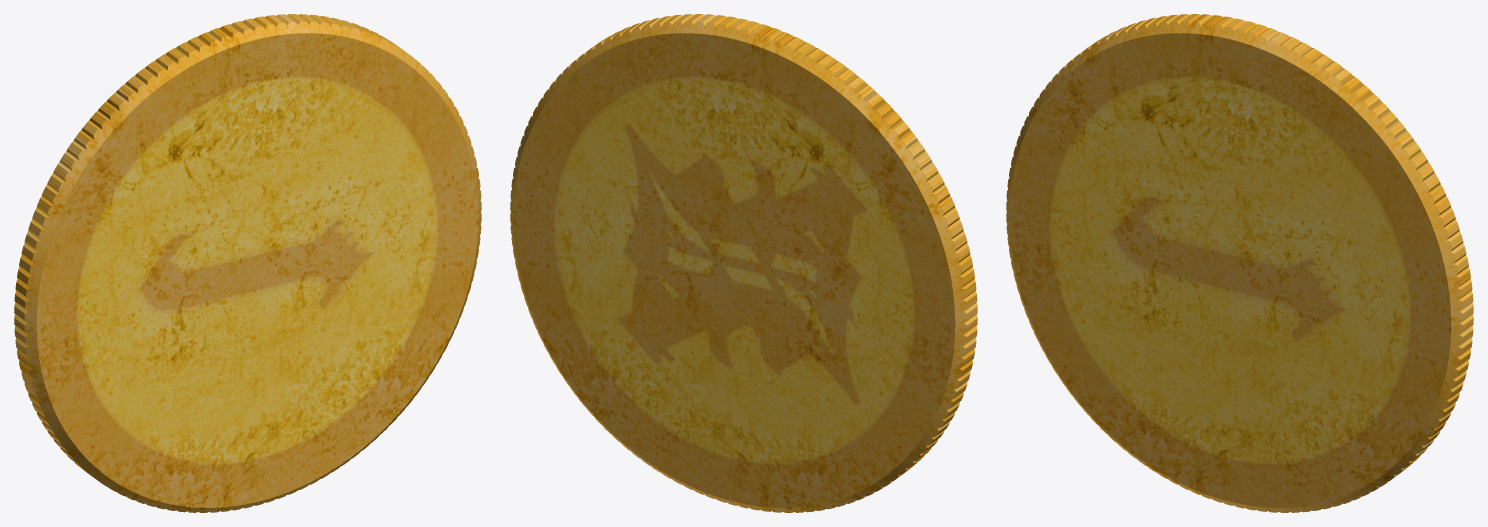
Rendered from coin_n1.obj.
3 views of the same model, side by side, from view 1: azimuth 30°, elevation 25°; view 2: azimuth 150°, elevation 25°; view 3: azimuth 330°, elevation 25° (orthographic).
Parts seen in each view (by area): view 1: Object__0; view 2: Object__0; view 3: Object__0.
Part boxes in pixels (box(x1,y1,x2,y2)): Object__0: box(14, 14, 481, 512); Object__0: box(510, 14, 977, 512); Object__0: box(1006, 14, 1473, 512).
Size of the model in its own units: 0.0252 by 0.0252 by 0.00185.
Materials: 2 (2 with a texture image).
